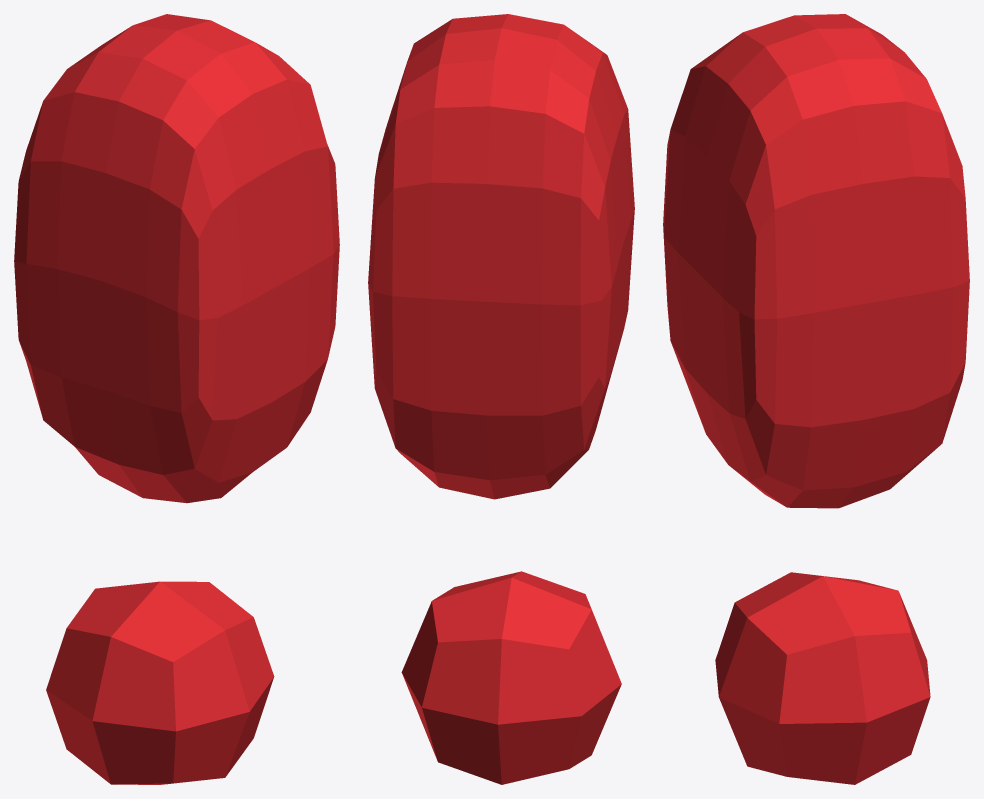
The model's file is unlem2.fbx.
The picture shows the model from 3 angles, left to right: view 1: azimuth 30°, elevation 25°; view 2: azimuth 150°, elevation 25°; view 3: azimuth 270°, elevation 25°; orthographic projection.
Visible parts, largest first — view 1: Cube; view 2: Cube; view 3: Cube.
Boxes of the visible parts, bbox=[...] form: Cube: bbox=[14, 14, 339, 784]; Cube: bbox=[368, 14, 634, 784]; Cube: bbox=[663, 14, 969, 784].
Size of the model in its own units: 1.77 by 4.81 by 1.76.
